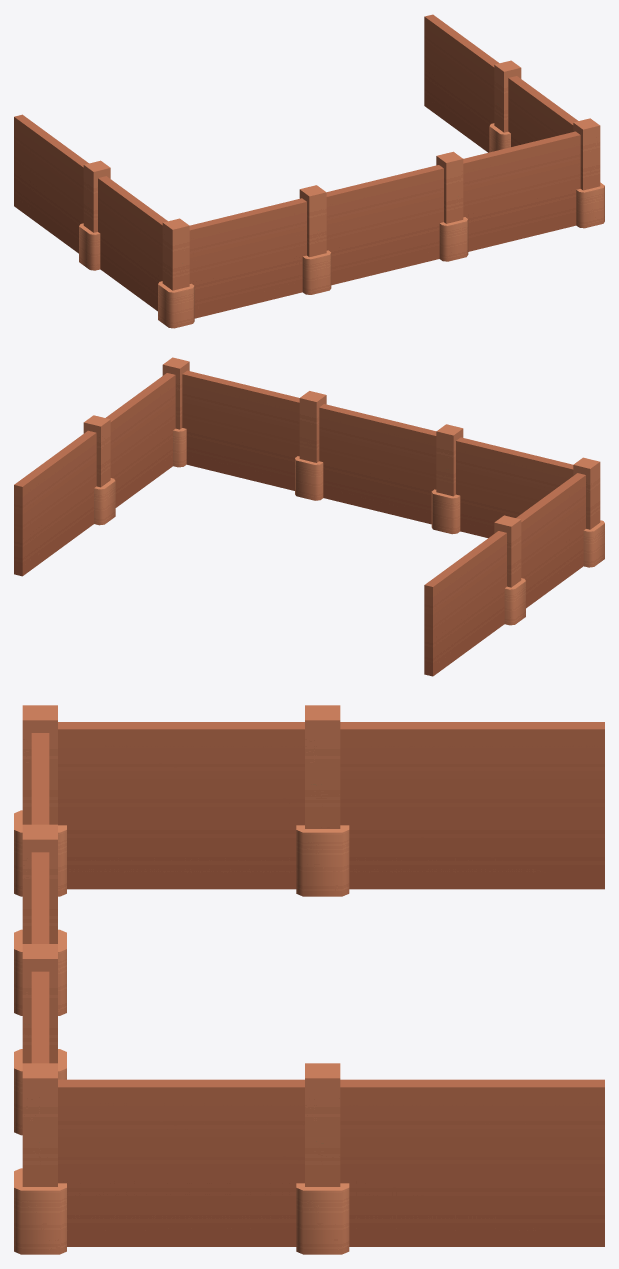
Rendered from fence-2x3.glb.
3 views of the same model, one above another, from view 1: azimuth 30°, elevation 25°; view 2: azimuth 150°, elevation 25°; view 3: azimuth 270°, elevation 25° (orthographic). The views are drawn at different scales.
Visible parts, largest first — view 1: fence-2x3; view 2: fence-2x3; view 3: fence-2x3.
Part boxes in pixels (left/top/right/bottom): fence-2x3: left=14, top=14, right=604, bottom=328; fence-2x3: left=14, top=357, right=604, bottom=676; fence-2x3: left=14, top=705, right=604, bottom=1254.
Bounding box in the file's own units: 1.28 × 0.27 × 0.8375.
1 material, 1 textured.
